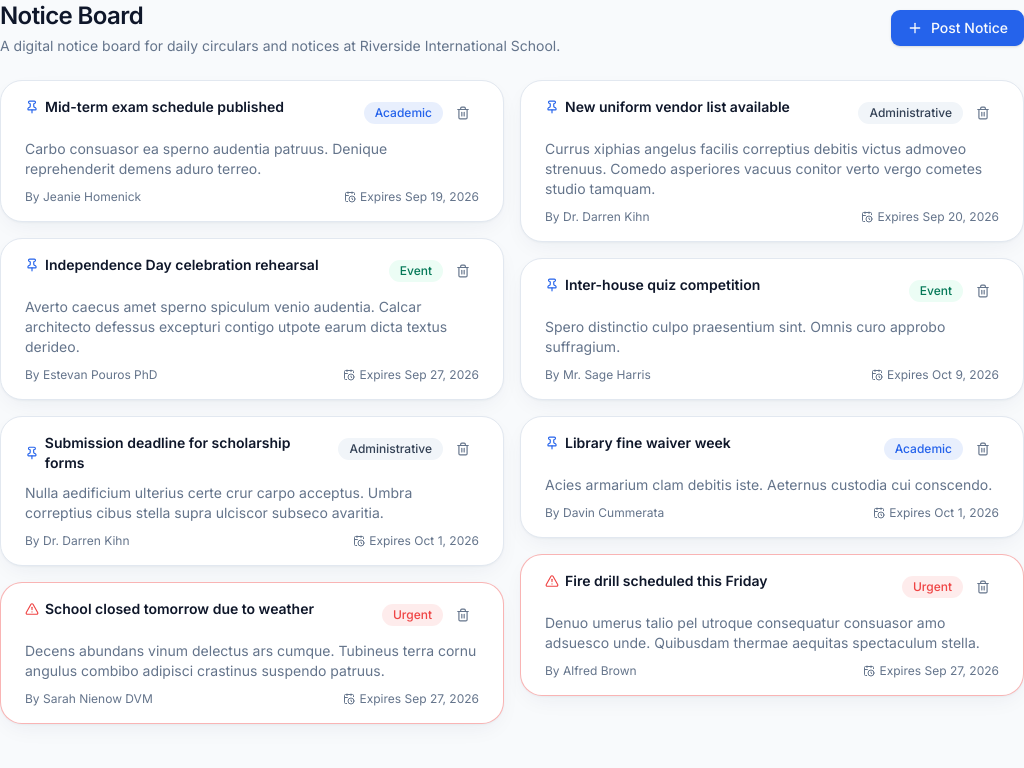
Scenario: NoticeBoardPage › deletes a notice when the delete confirmation is accepted
Click the button without text in the row of "Mid-term exam schedule published": (463, 113) x1=447 y1=97 x2=479 y2=129
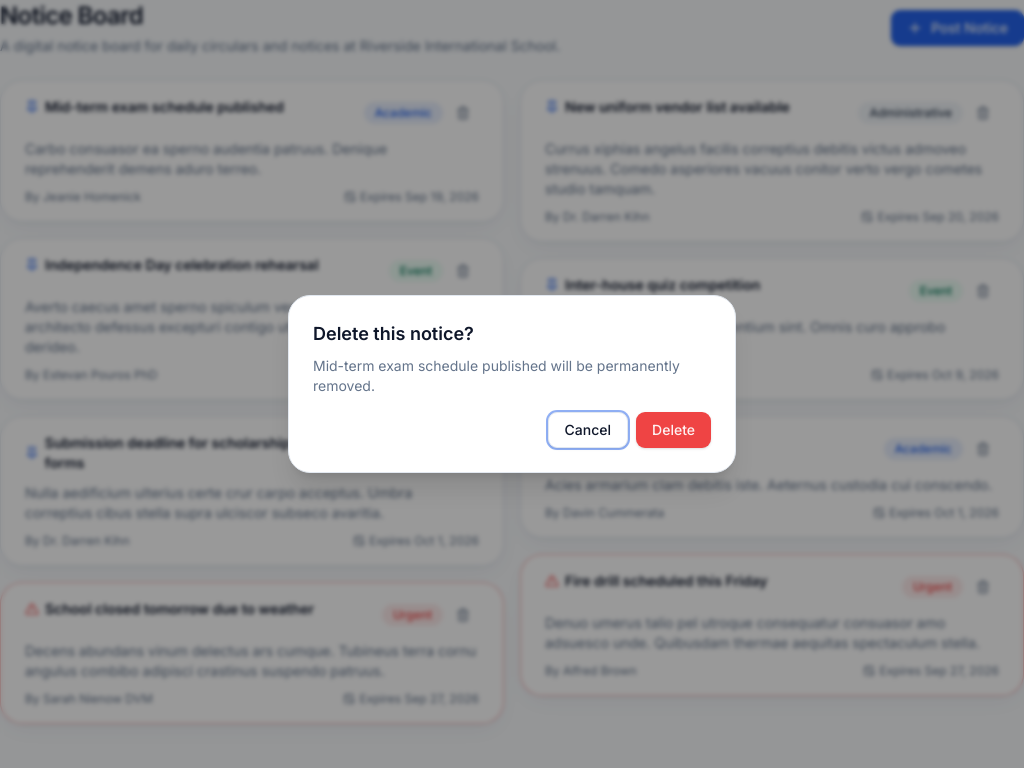
Click the button "Delete": (674, 430) x1=636 y1=412 x2=711 y2=448
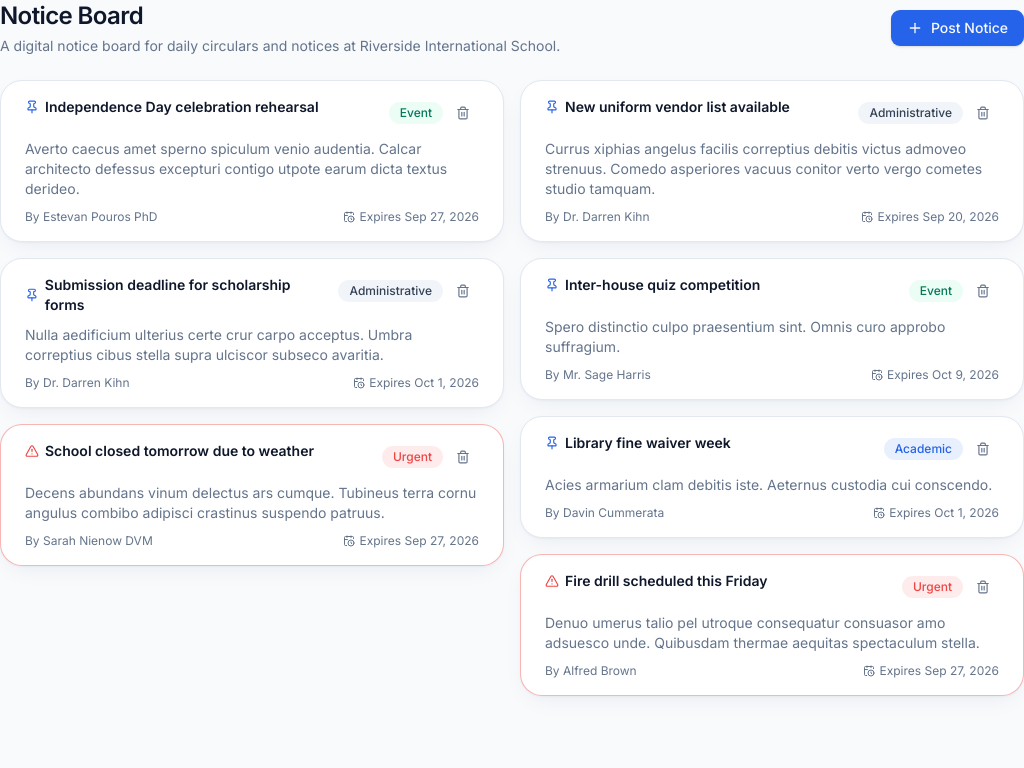
Expected: the text "Mid-term exam schedule published" is gone
